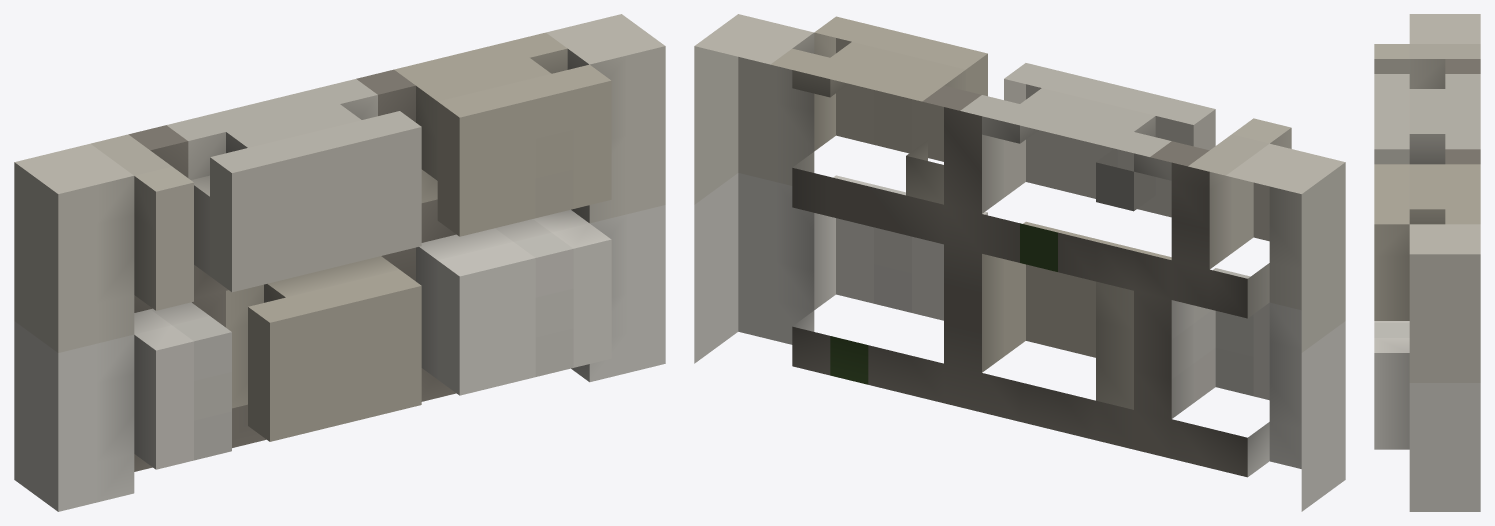
File: wall_plain_0.glb
3 views of the same model, side by side, from view 1: azimuth 30°, elevation 25°; view 2: azimuth 150°, elevation 25°; view 3: azimuth 270°, elevation 25° (orthographic). The views are drawn at different scales.
Visible parts, largest first — view 1: wall_plain_0; view 2: wall_plain_0; view 3: wall_plain_0.
Boxes of the visible parts, x1,y1,x2,y2 form: wall_plain_0: [14, 14, 665, 511]; wall_plain_0: [694, 14, 1345, 511]; wall_plain_0: [1374, 14, 1480, 511].
Size of the model in its own units: 1 by 0.5 by 0.1875.
